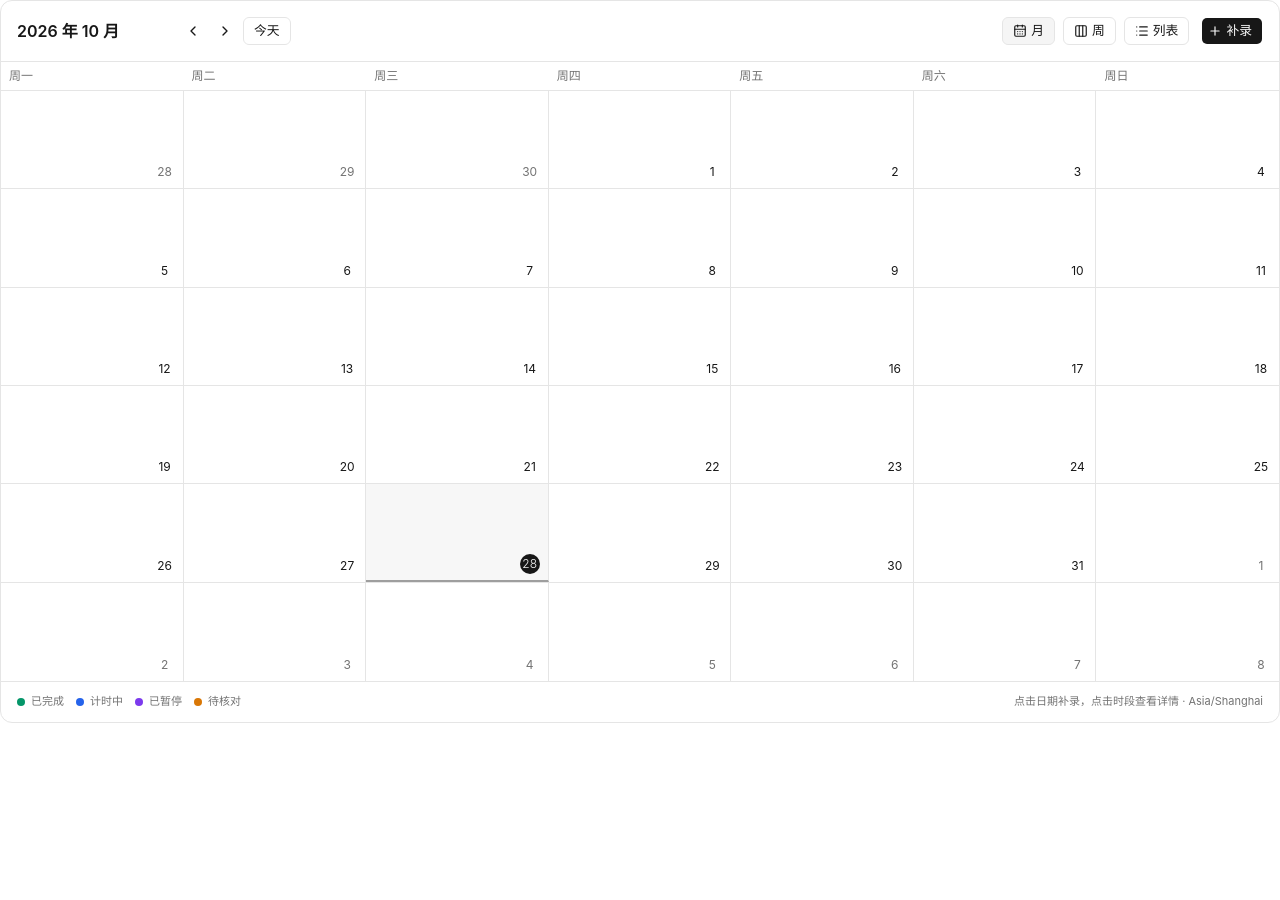
Test: keeps continuous weeks when navigating across a month boundary
The image size is (1280, 900).
Click the radio button labelled "周" at (1089, 31), box left=1063, top=17, right=1116, bottom=45
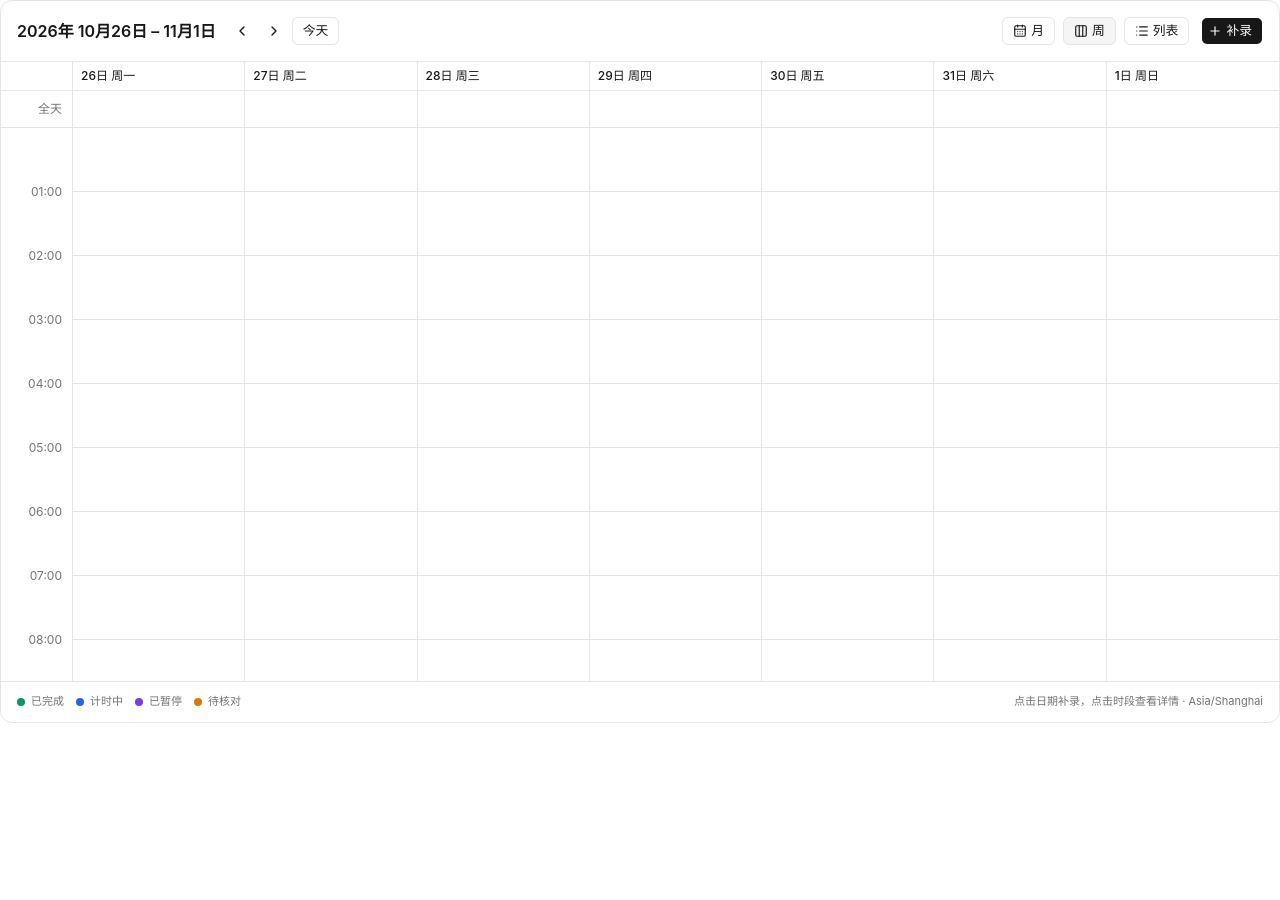
Click the button named "下一页" at (274, 31), box left=260, top=17, right=288, bottom=45
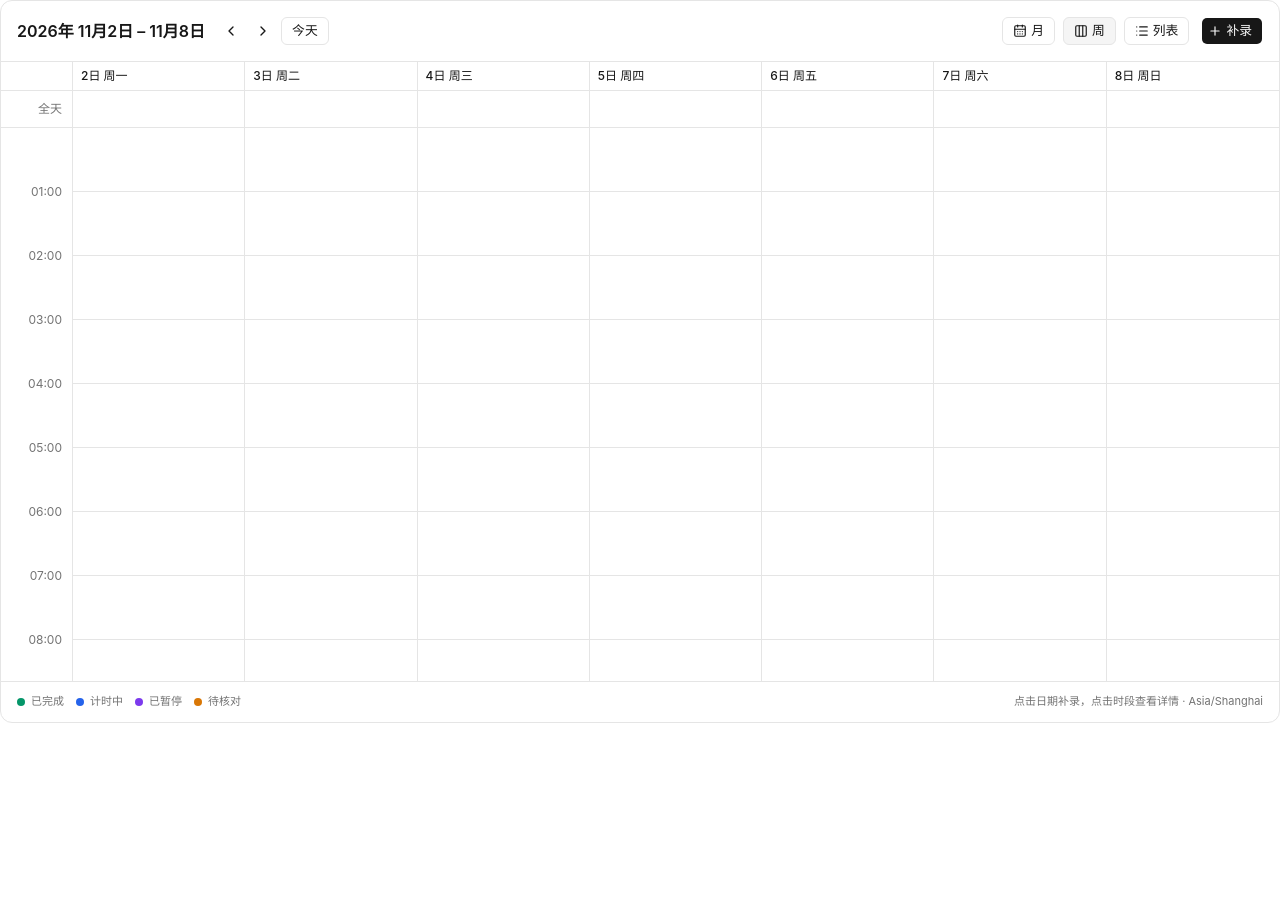
Now the heading "2026年 11月2日 – 11月8日" is shown, box left=17, top=20, right=205, bottom=42
Click the button named "上一页" at (231, 31), box left=217, top=17, right=245, bottom=45
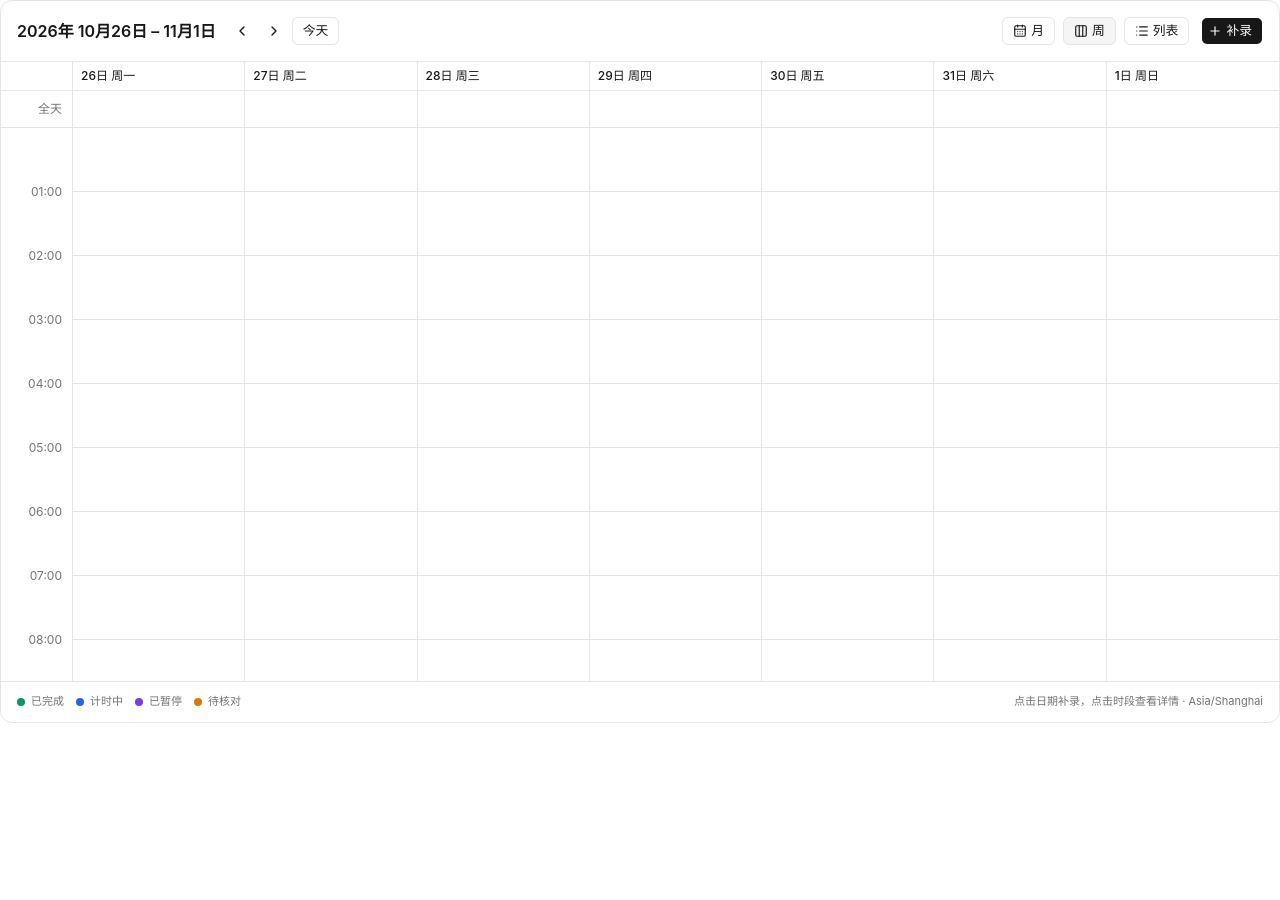
Now the heading "2026年 10月26日 – 11月1日" is shown, box left=17, top=20, right=216, bottom=42
